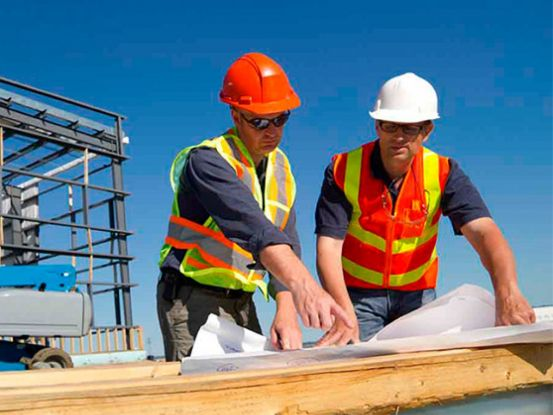casco: (218, 51, 302, 115), (367, 71, 442, 124)
